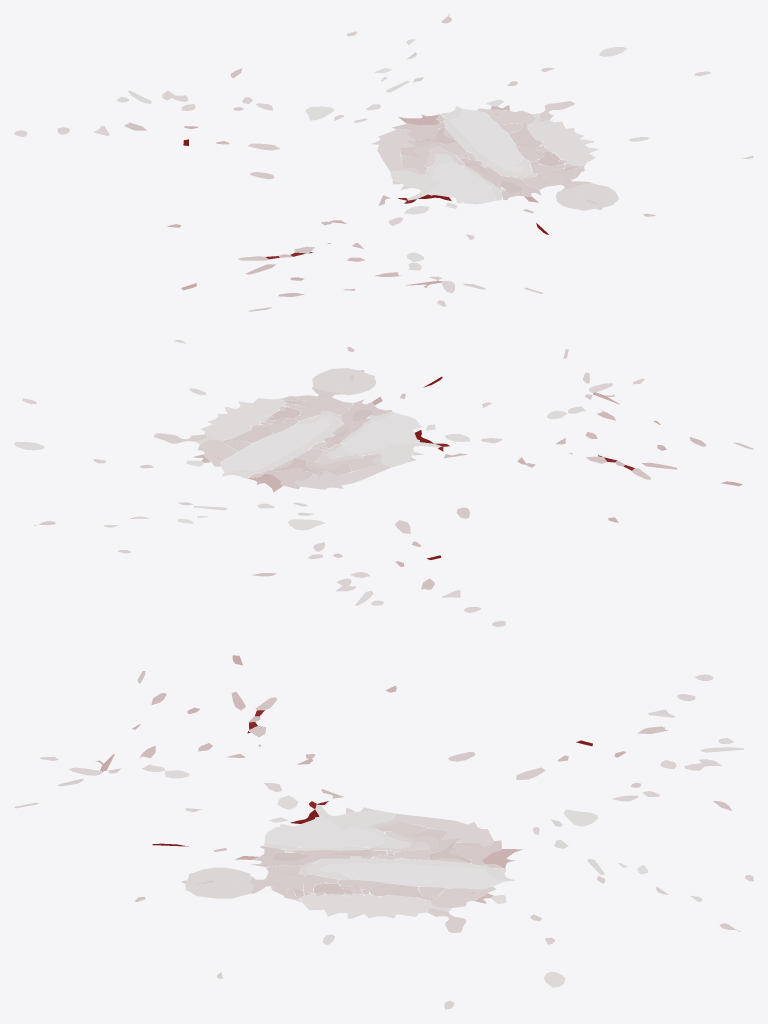
File: Blood.fbx
The picture shows the model from 3 angles, top to bottom: view 1: azimuth 30°, elevation 25°; view 2: azimuth 150°, elevation 25°; view 3: azimuth 270°, elevation 25°; orthographic projection. The views are drawn at different scales.
Visible parts, largest first — view 1: Curve.007; view 2: Curve.007; view 3: Curve.007.
Boxes of the visible parts, box(x1,y1,x2,y2) form: Curve.007: box(14, 14, 753, 311); Curve.007: box(14, 340, 753, 626); Curve.007: box(14, 655, 753, 1009).
Size of the model in its own units: 11.93 by 1.71e-06 by 10.53.
